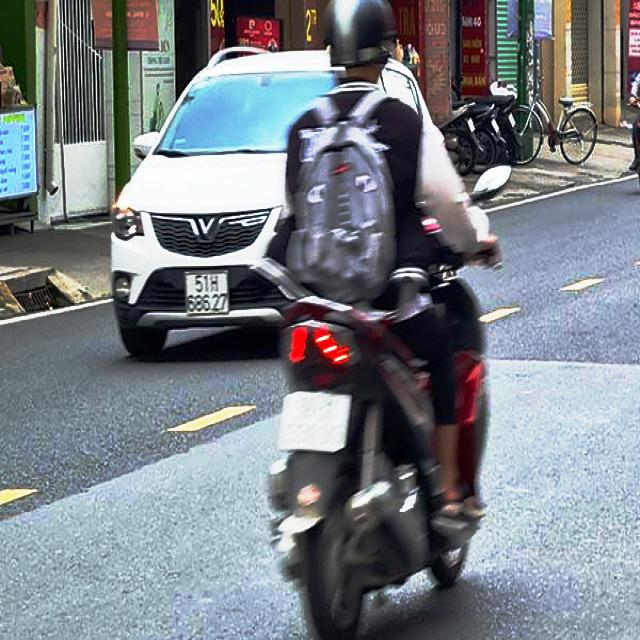license_plate: (186, 272, 232, 317)
